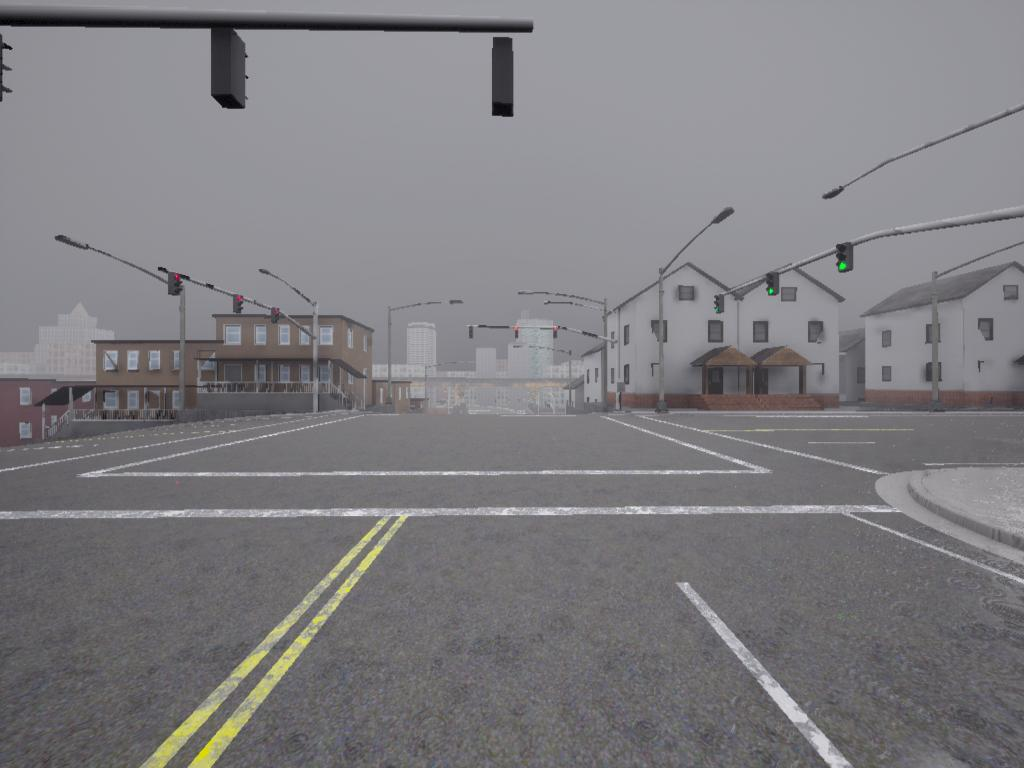traffic_light: (208, 28, 253, 114), (487, 38, 518, 122), (839, 246, 858, 274), (169, 272, 183, 295), (766, 275, 779, 298), (713, 294, 725, 314), (233, 295, 243, 313), (271, 309, 282, 323), (469, 326, 475, 342), (515, 326, 520, 343), (553, 327, 558, 342)
